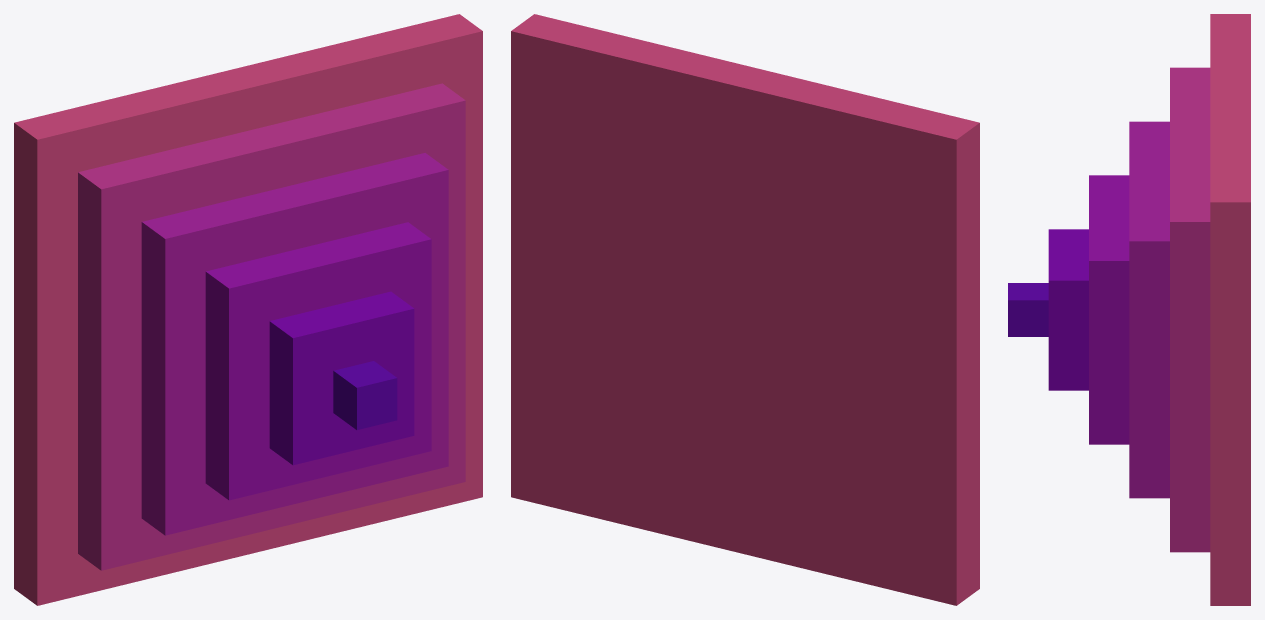
3 renders of one model, left to right at view 1: azimuth 30°, elevation 25°; view 2: azimuth 150°, elevation 25°; view 3: azimuth 270°, elevation 25°, orthographic. The views are drawn at different scales.
Visible parts, largest first — view 1: vivid_3d_obj; view 2: vivid_3d_obj; view 3: vivid_3d_obj.
Part boxes in pixels (x1,y1,x2,y2): vivid_3d_obj: (14, 14, 482, 605); vivid_3d_obj: (511, 14, 979, 605); vivid_3d_obj: (1008, 14, 1250, 605).
Size of the model in its own units: 22 by 22 by 12.
Materials: 1 (1 with a texture image).
